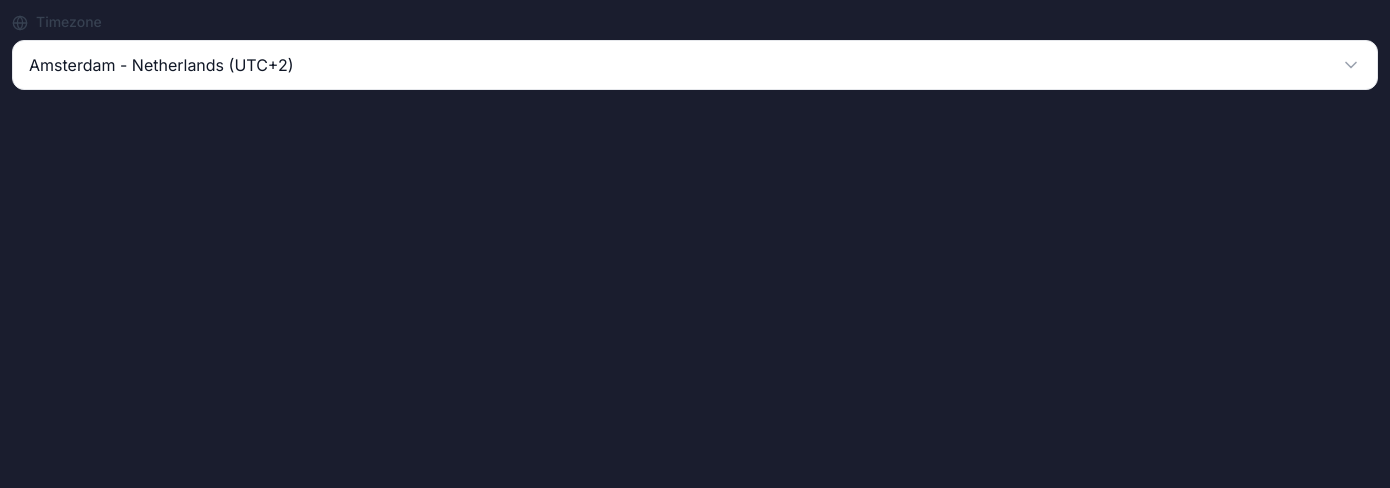
Test case: TimezonePicker › shows dropdown when toggle button clicked
Step 1. Click the button → x=161, y=65, box [12, 40, 1378, 90]
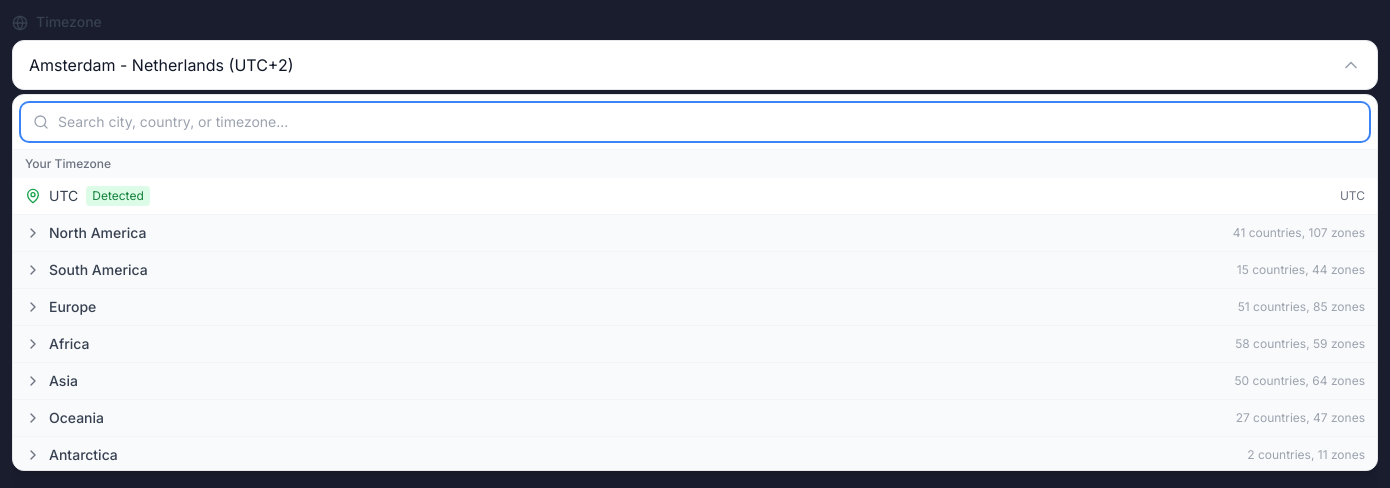
Expected: the field with placeholder "Search city, country, or timezone..." is shown, [21, 103, 1369, 141]
